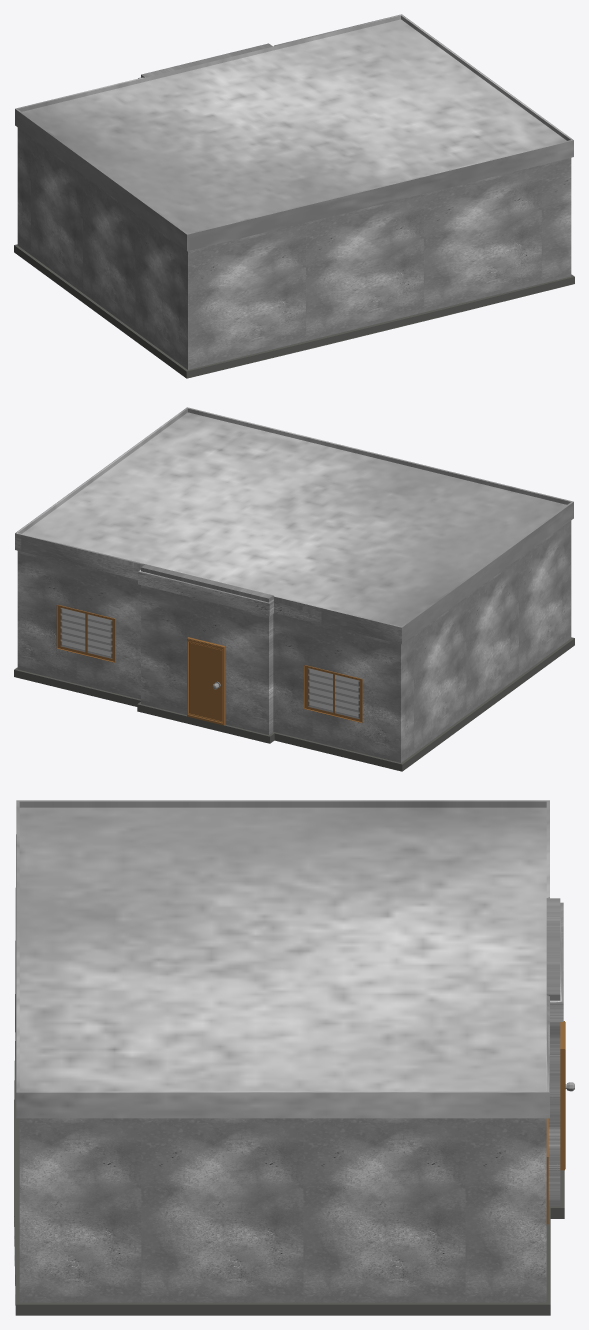
The model's file is building4.fbx.
3 renders of one model, top to bottom at view 1: azimuth 30°, elevation 25°; view 2: azimuth 150°, elevation 25°; view 3: azimuth 270°, elevation 25°, orthographic. The views are drawn at different scales.
Visible parts, largest first — view 1: building4; view 2: building4, door, Window.012, Window.011; view 3: building4, door.
Part boxes in pixels (<box>): building4: <box>14,14,574,378</box>; building4: <box>14,407,574,771</box>; door: <box>187,637,225,725</box>; Window.012: <box>56,604,115,662</box>; Window.011: <box>304,665,362,722</box>; building4: <box>14,800,564,1315</box>; door: <box>560,1021,565,1170</box>.
Size of the model in its own units: 21.58 by 7.63 by 17.43.
Materials: 5 (2 with a texture image).
